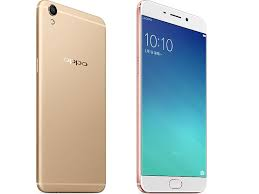oppo: (134, 1, 213, 194), (33, 1, 109, 192)
